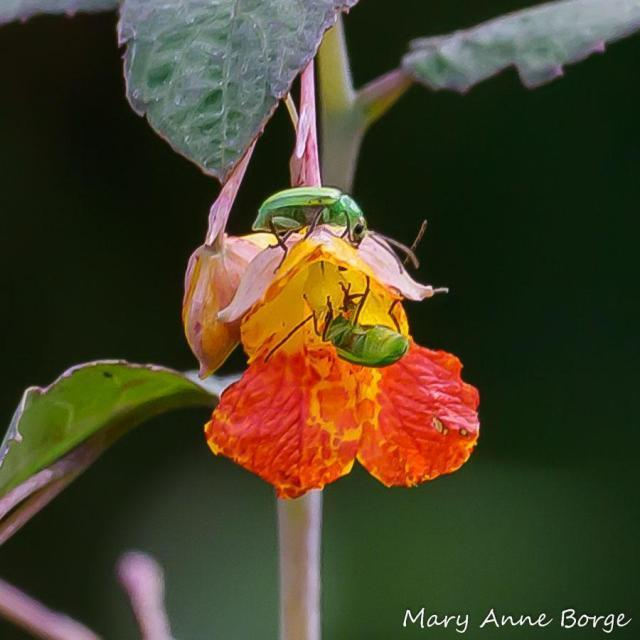gusano_gris: (267, 283, 412, 376), (252, 185, 368, 274)
